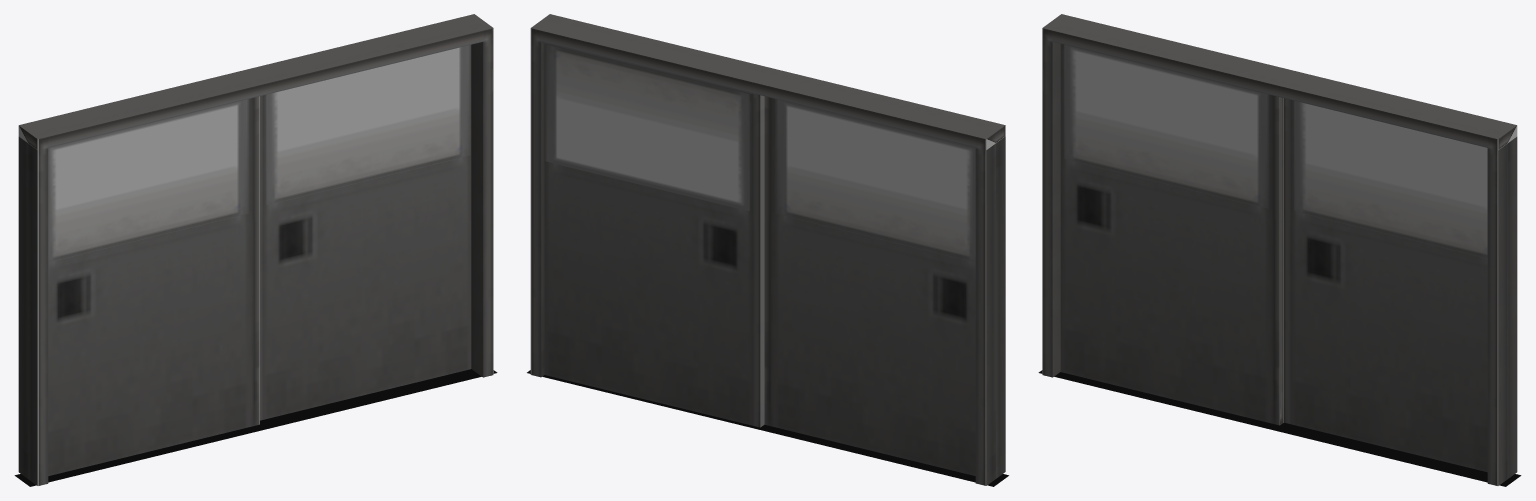
File: doors_double.fbx
3 renders of one model, left to right at view 1: azimuth 30°, elevation 25°; view 2: azimuth 150°, elevation 25°; view 3: azimuth 330°, elevation 25°, orthographic.
Visible parts, largest first — view 1: door.002, door_stationary.001, door_double, room_floorpanel.001; view 2: door_stationary.001, door.002, door_double, room_floorpanel.001; view 3: door.002, door_stationary.001, door_double, room_floorpanel.001.
Part boxes in pixels (x1,y1,x2,y2): door.002: (48, 96, 259, 475); door_stationary.001: (260, 45, 471, 420); door_double: (18, 14, 493, 485); room_floorpanel.001: (14, 369, 497, 486); door_stationary.001: (544, 42, 764, 427); door.002: (764, 96, 975, 475); door_double: (530, 14, 1005, 485); room_floorpanel.001: (527, 370, 1008, 486); door.002: (1060, 44, 1283, 425); door_stationary.001: (1283, 98, 1487, 472); door_double: (1042, 14, 1517, 485); room_floorpanel.001: (1038, 370, 1521, 486).
Bounding box in the file's own units: 374 × 266 × 26.76.
2 materials, 1 textured.
